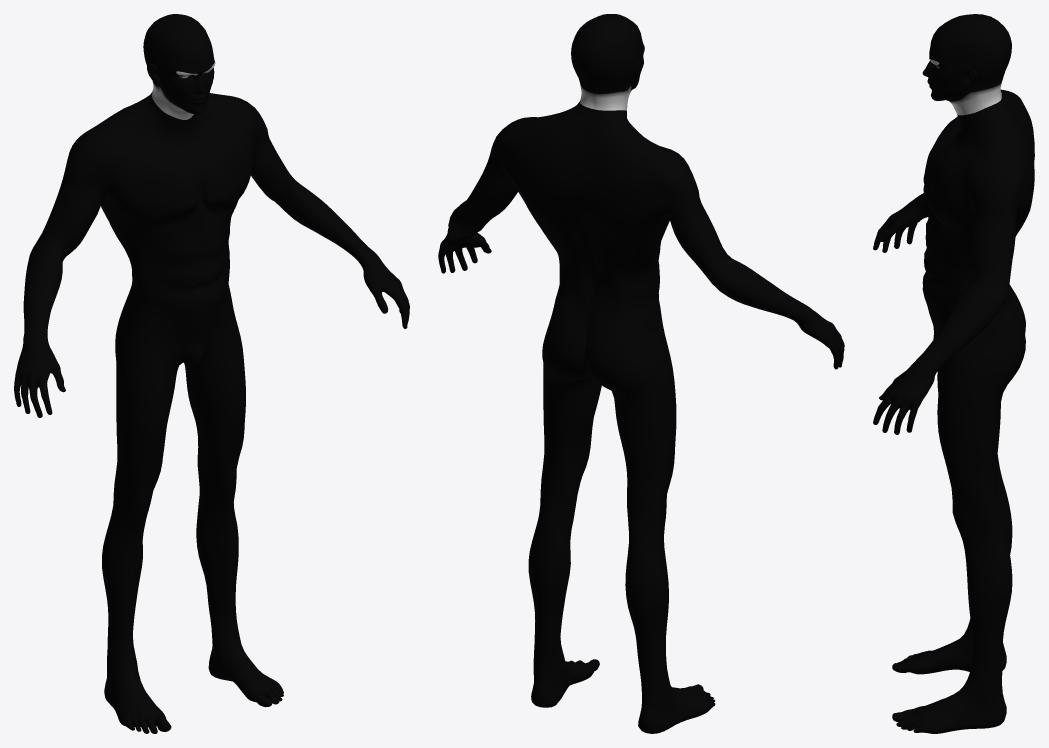
Rendered from main char body.fbx.
3 renders of one model, left to right at view 1: azimuth 30°, elevation 25°; view 2: azimuth 150°, elevation 25°; view 3: azimuth 270°, elevation 25°, orthographic. The views are drawn at different scales.
Parts seen in each view (by area): view 1: body; view 2: body; view 3: body.
Part boxes in pixels (bbox=[...]): body: bbox=[14, 14, 409, 733]; body: bbox=[438, 14, 844, 733]; body: bbox=[873, 14, 1034, 733].
Bounding box in the file's own units: 107 × 177 × 38.07.
